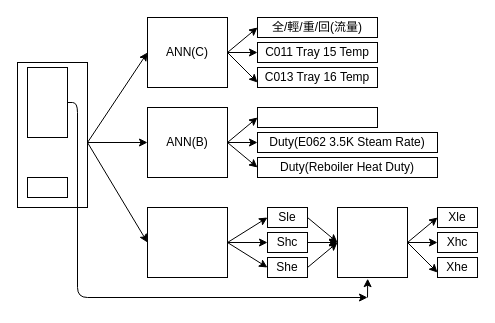
The diagram is 495 pixels wide and 323 high, and some of its shapes have lost their labels. Here are the shapes that lost their labels. From the top down, the centre of each, then its label:
At point 47,102: "Xna".
At point 317,117: "全/輕/核/重/(密度)".
At point 47,187: "case".
At point 187,242: "ANN(A)".
At point 372,242: "TR(A)".
